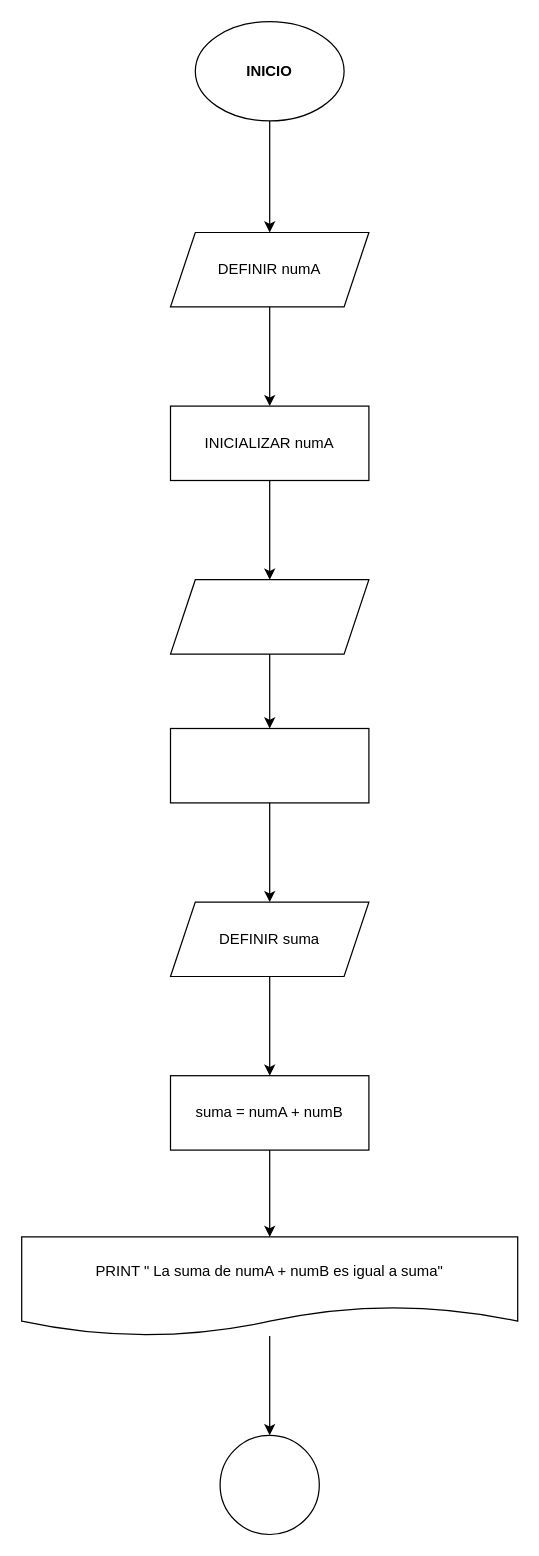
Image size: 539x1556. Some labels were removed from this diagram. The centre of each missing label's shape, as x and y in pixels:
DEFINIR numB: [269,616]
FIN: [269,1484]
INICIALIZAR numB: [269,765]
